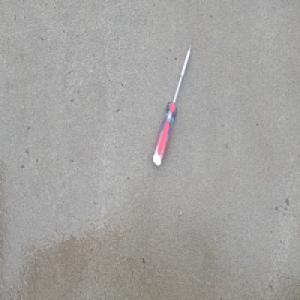Screwdriver: (151, 41, 192, 168)
